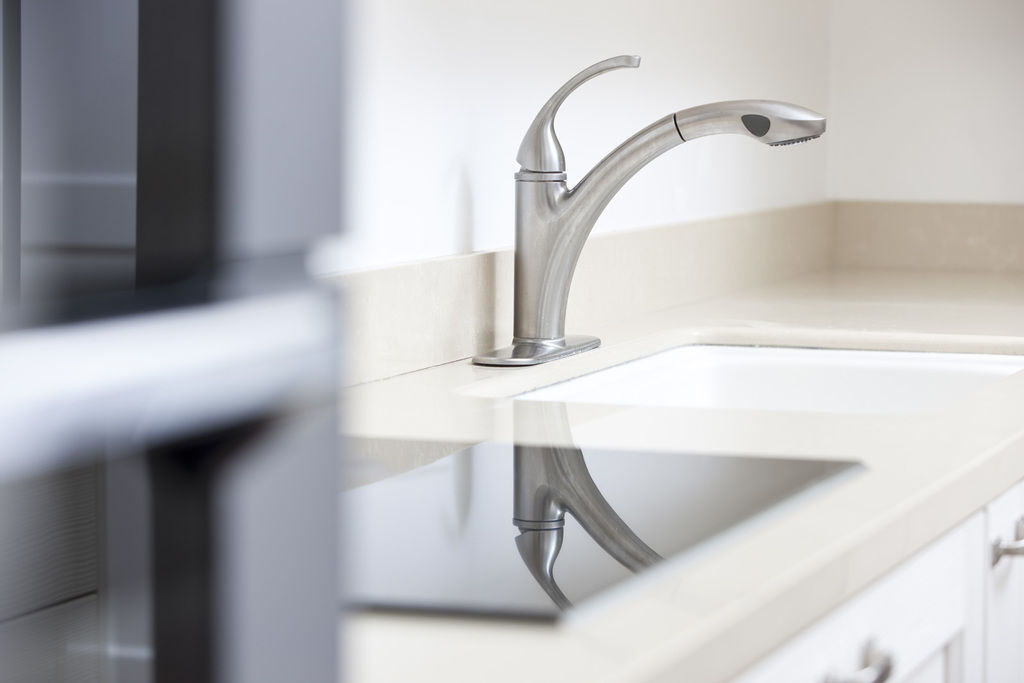tap: (510, 52, 824, 344)
